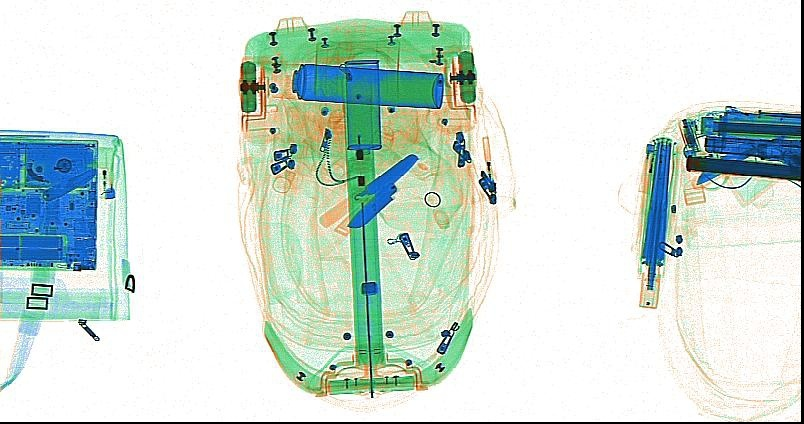knife: (317, 153, 419, 227), (332, 178, 398, 236), (690, 138, 760, 189), (41, 166, 98, 202)
lighter: (637, 142, 659, 194), (96, 146, 116, 199), (481, 136, 493, 182)
pressure: (270, 62, 445, 109), (718, 108, 799, 138)
scissors: (686, 130, 788, 191)
zippooil: (343, 58, 382, 155)
